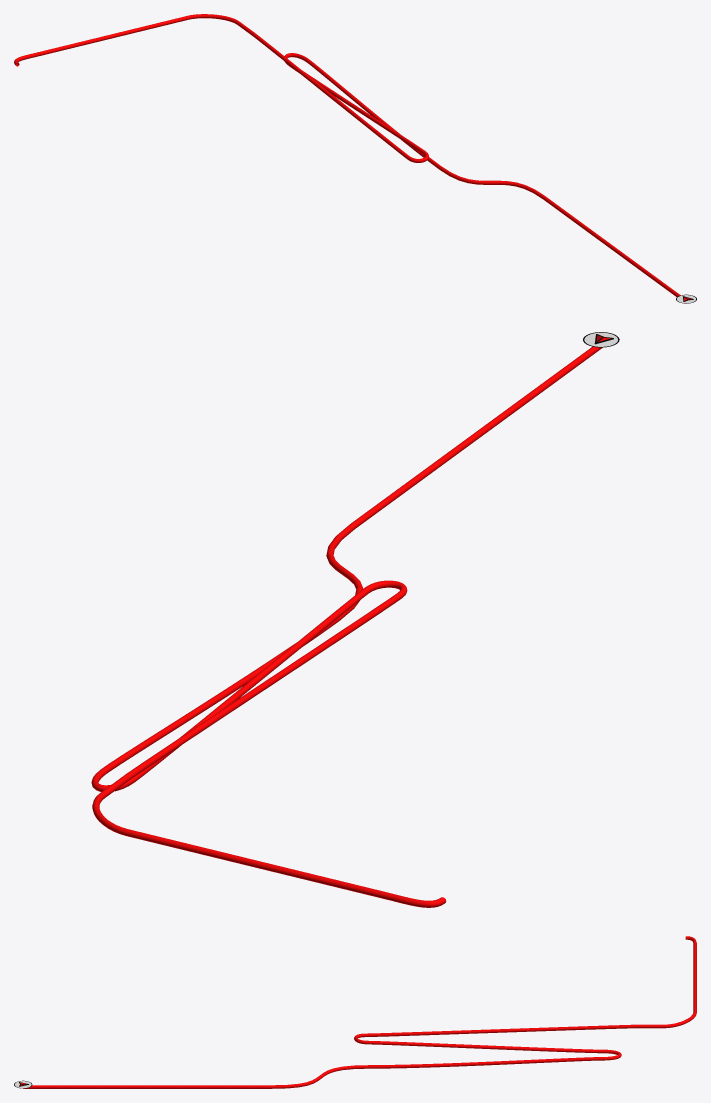
File: route_d7224f29-713b-477e-99af-837678f2d821_en_single.glb
The picture shows the model from 3 angles, top to bottom: view 1: azimuth 30°, elevation 25°; view 2: azimuth 150°, elevation 25°; view 3: azimuth 270°, elevation 25°; orthographic projection. The views are drawn at different scales.
Visible parts, largest first — view 1: Notaufnahme.010; view 2: Notaufnahme.010; view 3: Notaufnahme.010.
Boxes of the visible parts, x1,y1,x2,y2 form: Notaufnahme.010: (14, 14, 686, 303); Notaufnahme.010: (91, 346, 602, 907); Notaufnahme.010: (23, 936, 696, 1088).
Size of the model in its own units: 6.73 by 0.7201 by 15.21.
